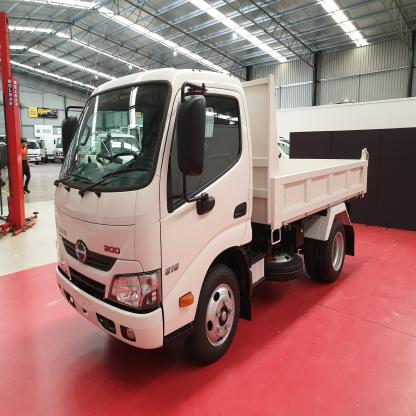dump_truck: (33, 58, 370, 362)
